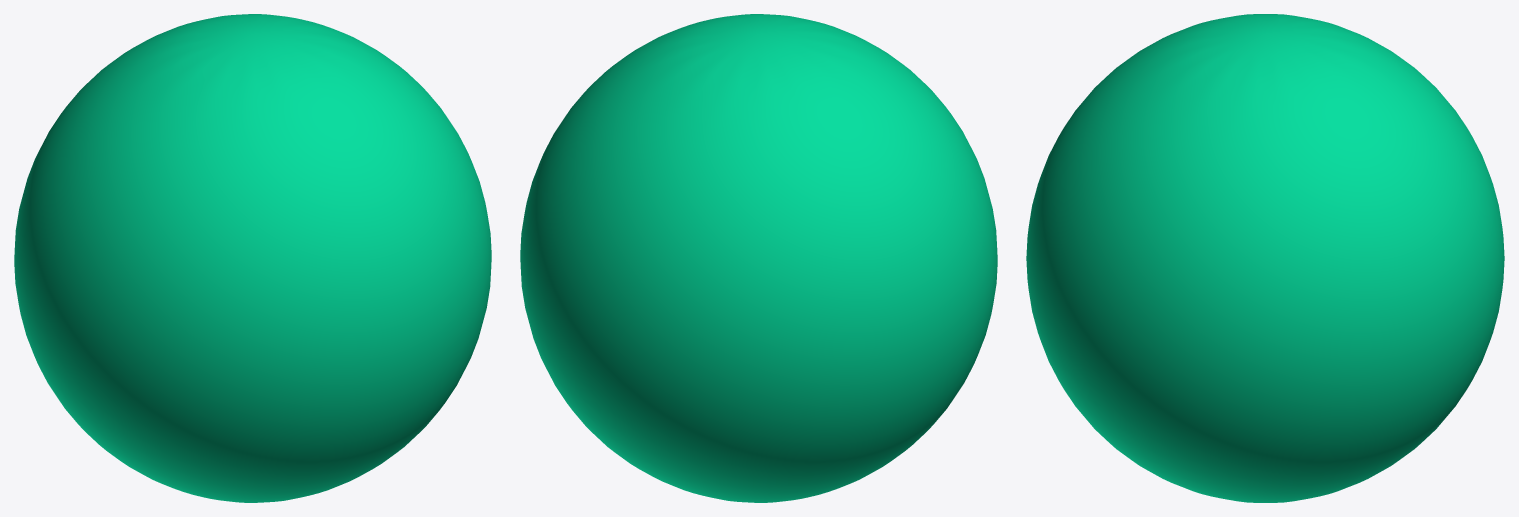
File: new rollerBall.fbx
3 renders of one model, left to right at view 1: azimuth 30°, elevation 25°; view 2: azimuth 150°, elevation 25°; view 3: azimuth 270°, elevation 25°, orthographic.
Parts seen in each view (by area): view 1: Sphere; view 2: Sphere; view 3: Sphere.
Boxes of the visible parts, x1,y1,x2,y2 form: Sphere: [14, 14, 491, 502]; Sphere: [520, 14, 997, 502]; Sphere: [1026, 14, 1504, 502].
Bounding box in the file's own units: 191 × 198 × 191.
